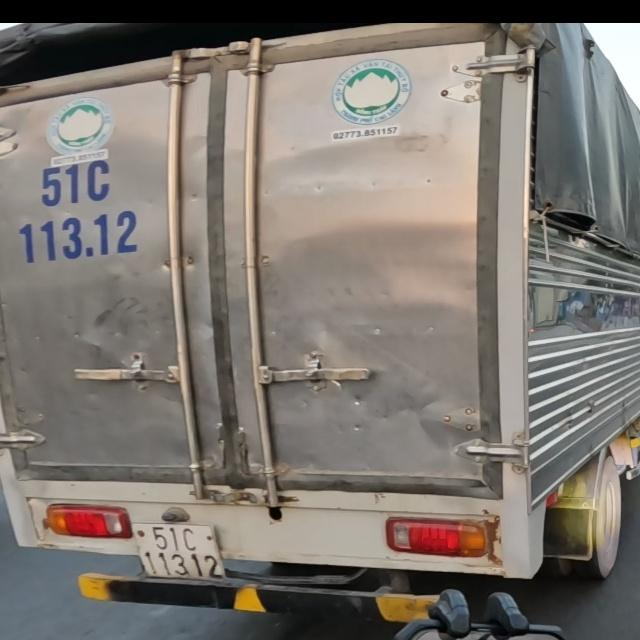license-plate: (130, 519, 227, 581)
